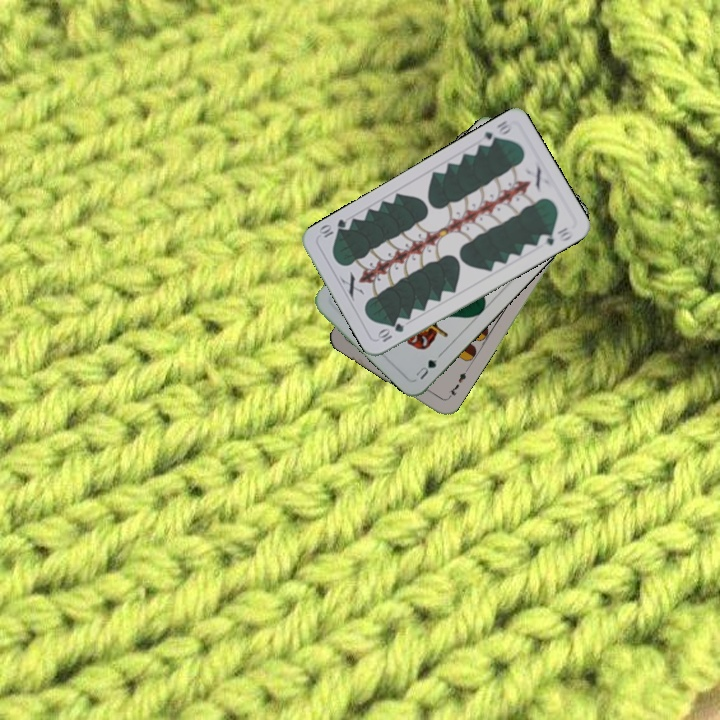E7: (443, 366, 470, 402)
G10: (476, 116, 515, 149), (374, 319, 407, 345)
GU: (412, 355, 440, 382)
